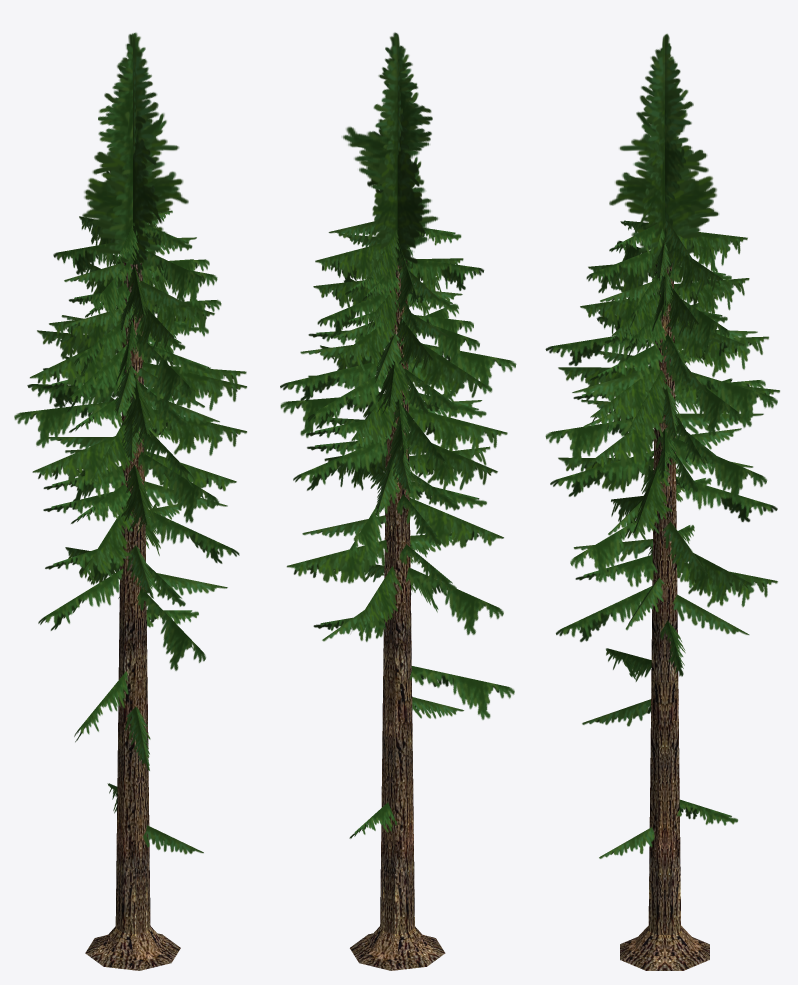
The model's file is TreeNewWIP1.glb.
The picture shows the model from 3 angles, left to right: view 1: azimuth 30°, elevation 25°; view 2: azimuth 150°, elevation 25°; view 3: azimuth 270°, elevation 25°; orthographic projection.
Visible parts, largest first — view 1: Plane.001; view 2: Plane.001; view 3: Plane.001.
Boxes of the visible parts, bbox=[...] form: Plane.001: bbox=[14, 32, 246, 970]; Plane.001: bbox=[280, 32, 516, 970]; Plane.001: bbox=[545, 33, 779, 970].
Bounding box in the file's own units: 5.82 × 25.13 × 5.89.
1 material, 1 textured.
